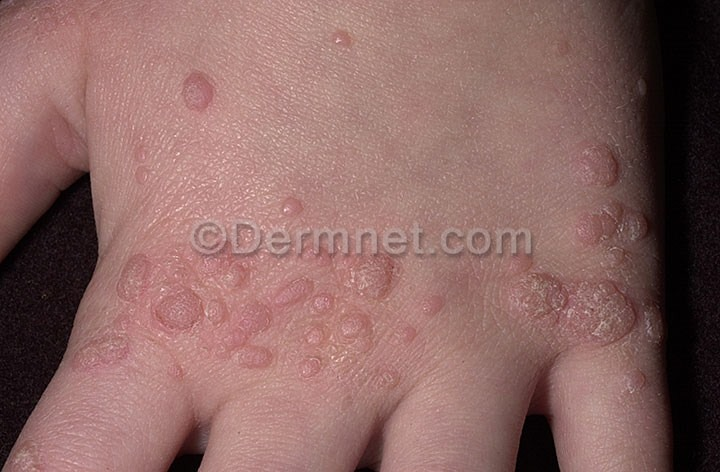Warts: (114, 257, 429, 387), (490, 262, 665, 386), (560, 124, 662, 261), (171, 64, 217, 120)
